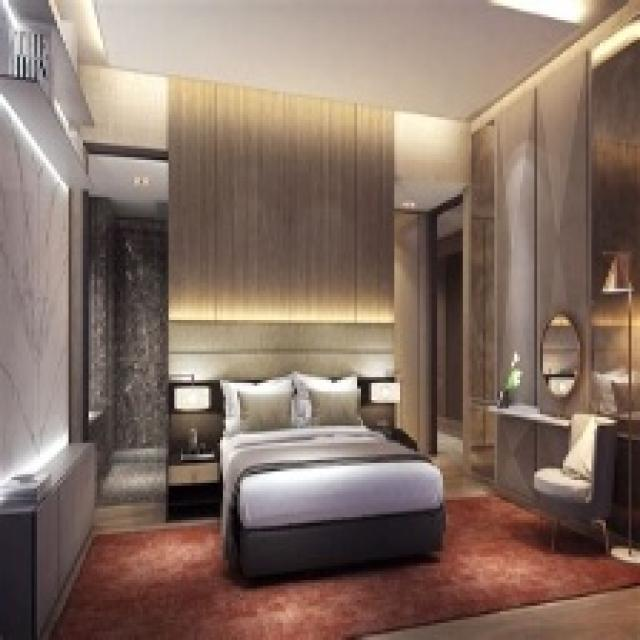Bed: (217, 371, 446, 580)
